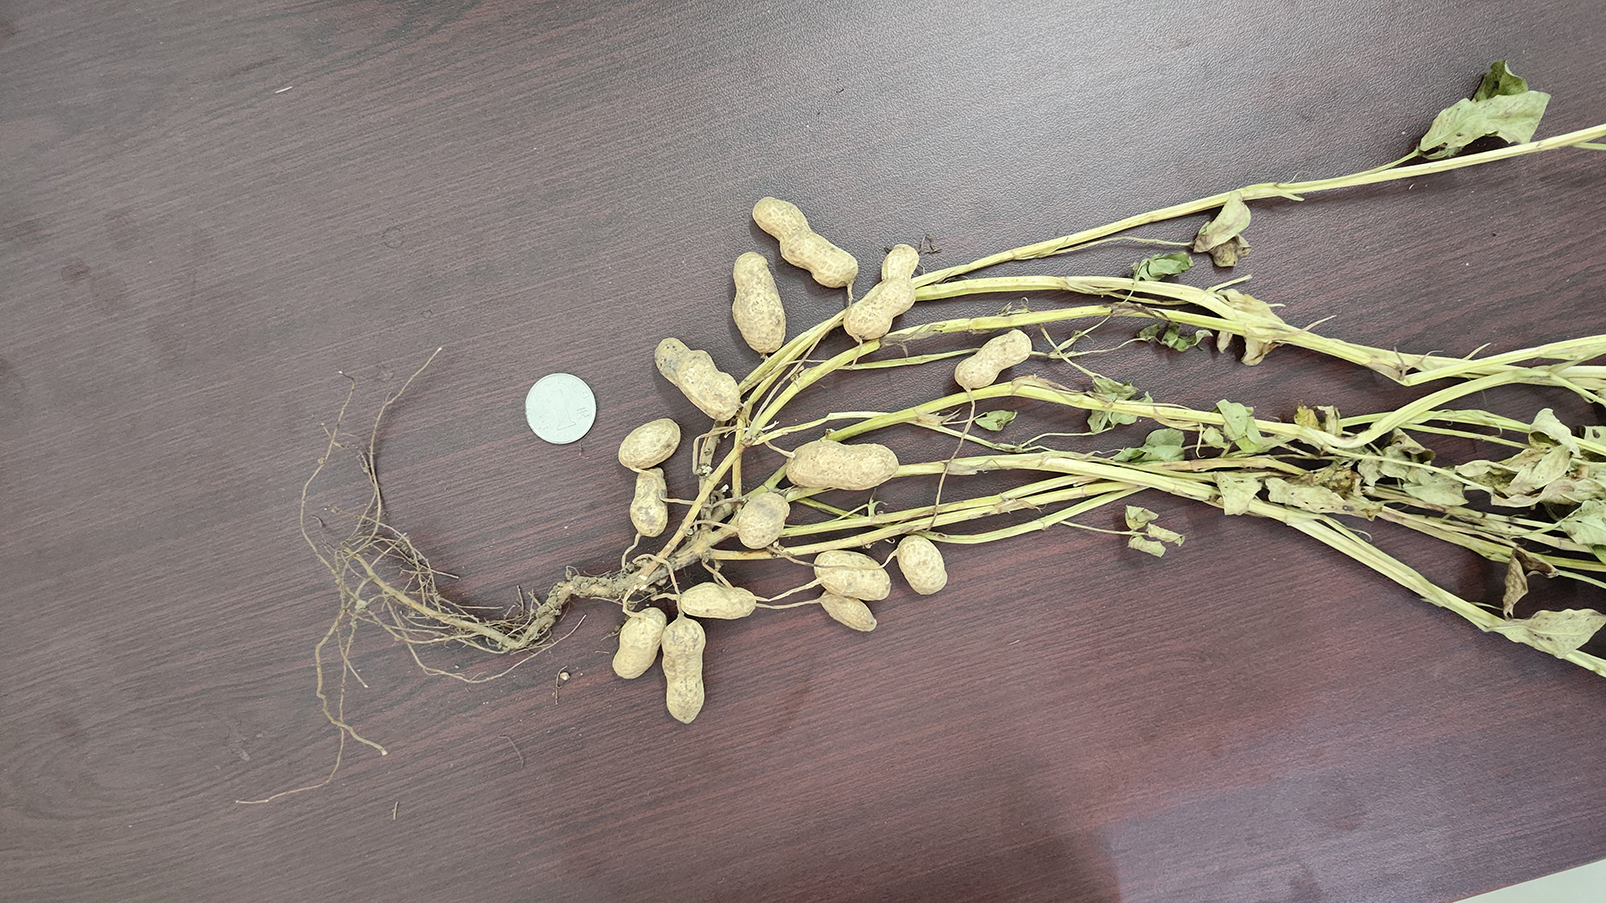h: (752, 195, 857, 288), (843, 243, 922, 338), (652, 336, 740, 422), (786, 440, 901, 491), (731, 250, 786, 351), (953, 327, 1034, 389), (662, 617, 706, 724), (610, 606, 667, 679), (810, 549, 891, 599), (897, 534, 950, 596), (619, 416, 679, 469), (736, 492, 790, 547), (679, 581, 754, 620), (629, 467, 670, 536), (820, 590, 879, 633)
